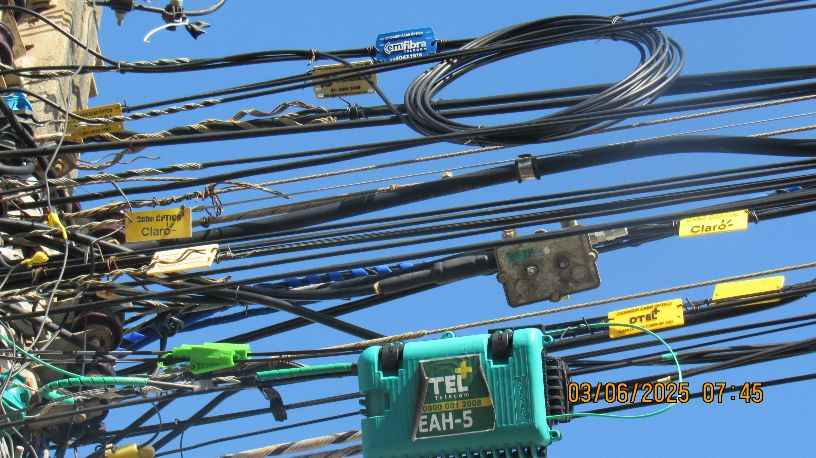caixa_derivacao: (354, 329, 571, 456)
coaxial: (264, 212, 815, 307)
drop: (161, 337, 258, 385)
fibra_optica: (96, 206, 215, 240), (603, 296, 689, 343), (51, 93, 128, 142), (363, 26, 445, 64), (307, 58, 385, 96), (144, 242, 223, 276)
tronco_metalico: (406, 4, 683, 146)
